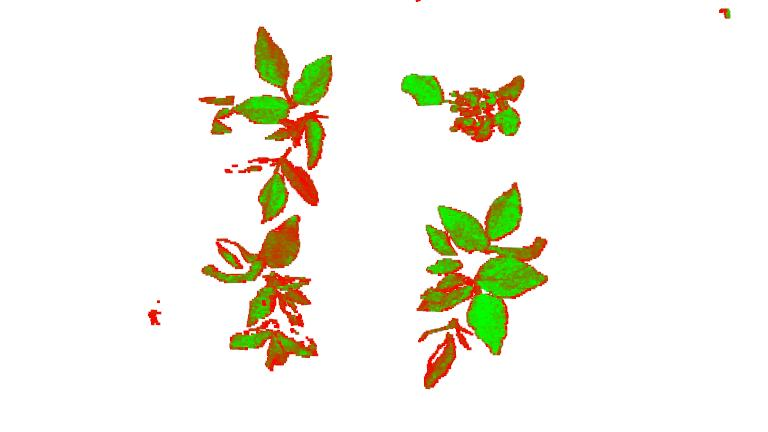mungbean: (417, 178, 553, 390), (214, 28, 333, 226), (201, 215, 323, 372), (397, 60, 528, 141)
